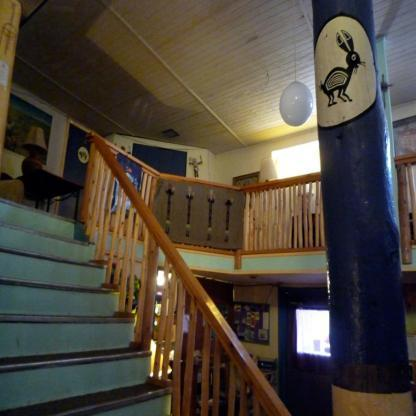stair: (0, 190, 171, 416)
